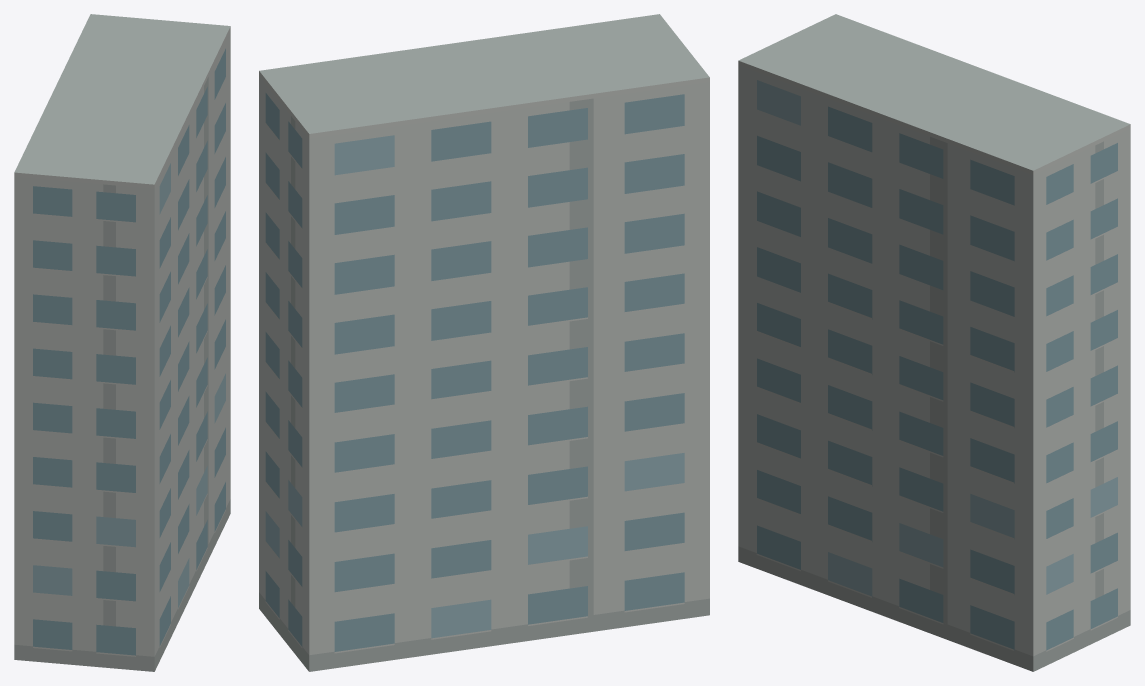
The model's file is residential-49f7fa36-8159-4f32-aa45-3f018fb3b955.glb.
The picture shows the model from 3 angles, left to right: view 1: azimuth 30°, elevation 25°; view 2: azimuth 150°, elevation 25°; view 3: azimuth 270°, elevation 25°; orthographic projection. The views are drawn at different scales.
Visible parts, largest first — view 1: residential-49f7fa36-8159-4f32-aa45-3f018fb3b955.tmp; view 2: residential-49f7fa36-8159-4f32-aa45-3f018fb3b955.tmp; view 3: residential-49f7fa36-8159-4f32-aa45-3f018fb3b955.tmp.
Part boxes in pixels (x1=…): residential-49f7fa36-8159-4f32-aa45-3f018fb3b955.tmp: x1=14, y1=14, x2=230, y2=671; residential-49f7fa36-8159-4f32-aa45-3f018fb3b955.tmp: x1=259, y1=14, x2=709, y2=671; residential-49f7fa36-8159-4f32-aa45-3f018fb3b955.tmp: x1=738, y1=14, x2=1130, y2=671.
Size of the model in its own units: 18.79 by 28 by 19.88.
